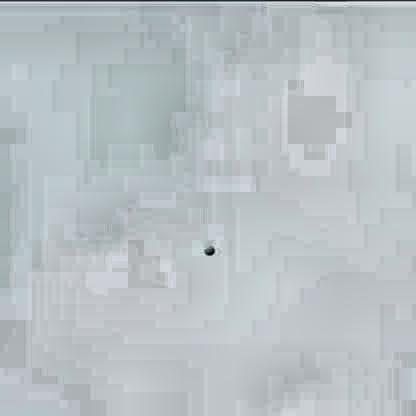golfball: (200, 243, 213, 254)
